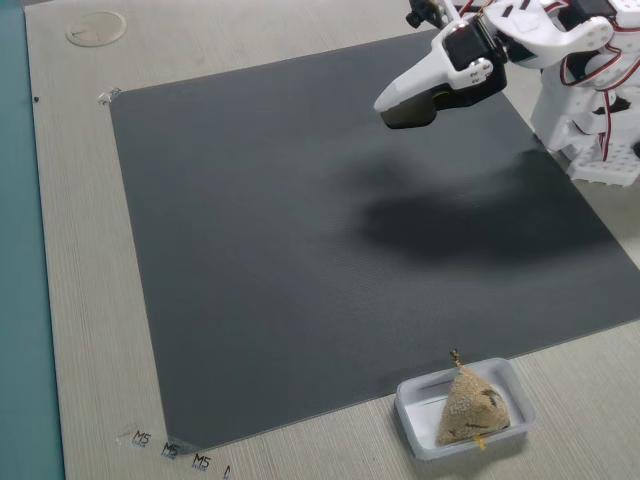gripper: (367, 6, 511, 140)
